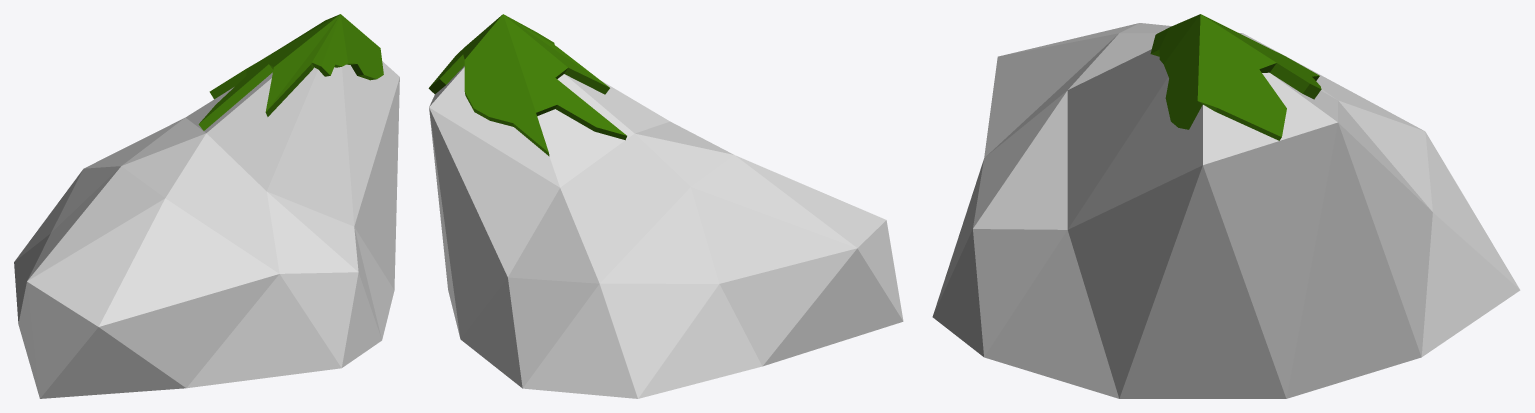
Rendered from stenen7.fbx.
The picture shows the model from 3 angles, left to right: view 1: azimuth 30°, elevation 25°; view 2: azimuth 150°, elevation 25°; view 3: azimuth 270°, elevation 25°; orthographic projection. The views are drawn at different scales.
Parts seen in each view (by area): view 1: Icosphere.012; view 2: Icosphere.012; view 3: Icosphere.012.
Boxes of the visible parts, x1,y1,x2,y2 form: Icosphere.012: [14, 14, 399, 398]; Icosphere.012: [428, 14, 903, 398]; Icosphere.012: [932, 14, 1520, 398].
Size of the model in its own units: 248 by 150 by 217.
